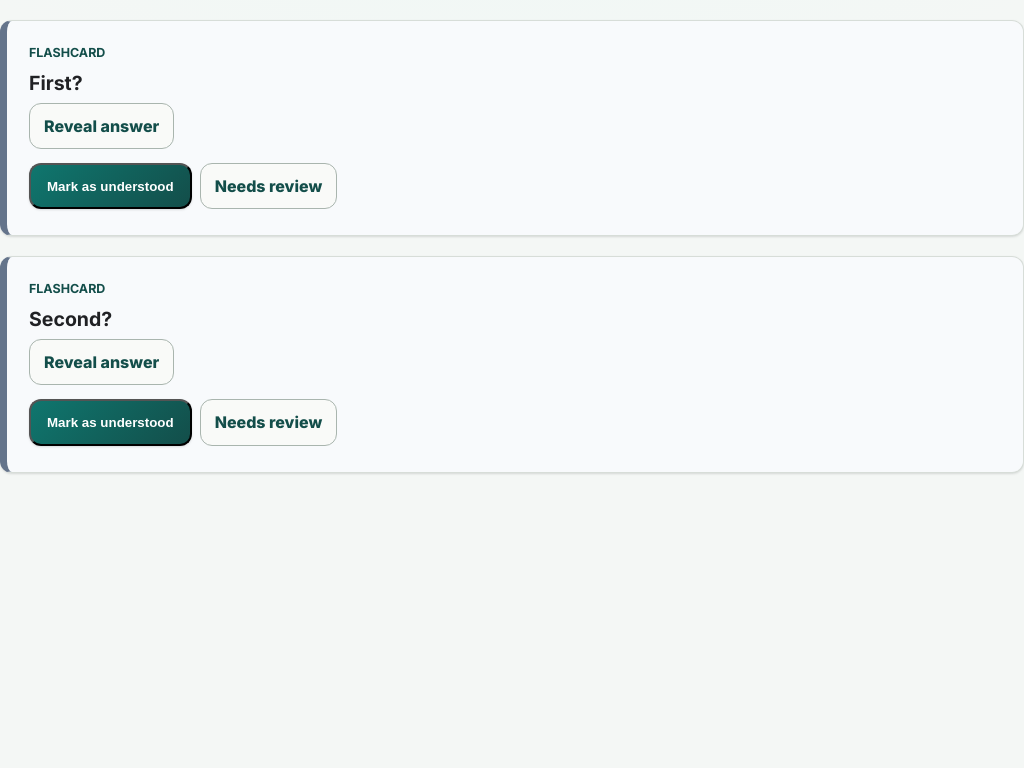
Test: advanced component interactions › reveals flashcard answers independently
Click the button "Reveal answer" below "First?" at (102, 126), box x1=29 y1=103 x2=174 y2=149
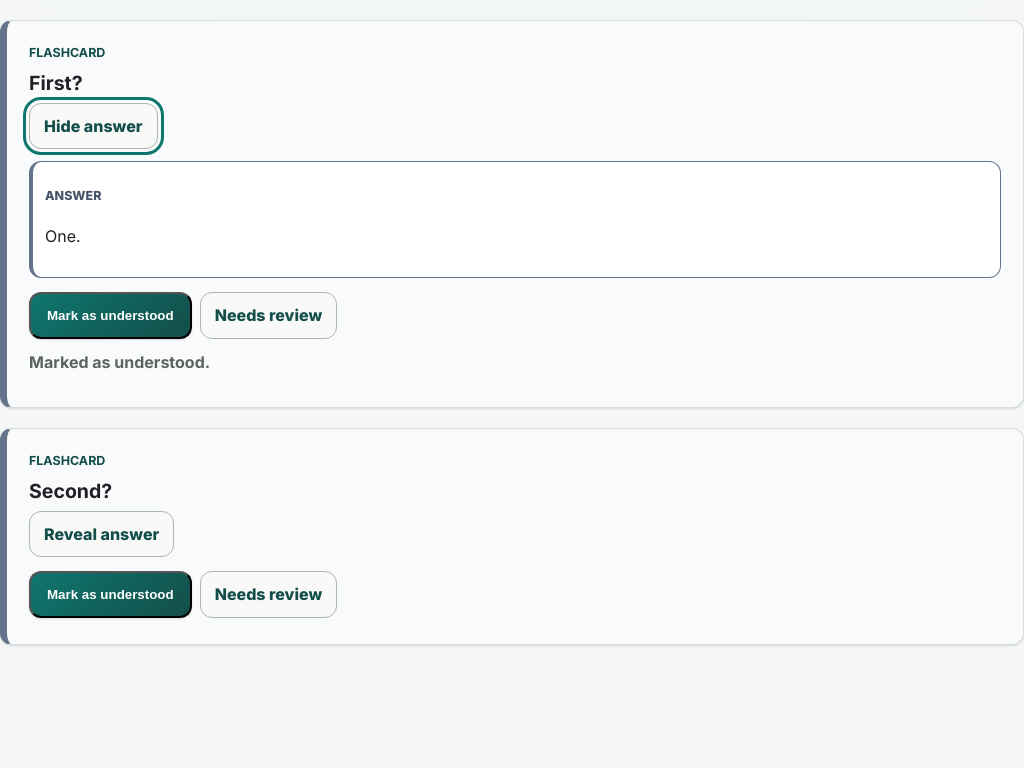
Expected: the button "Hide answer" is expanded, x1=29 y1=103 x2=158 y2=149
Expected: the text "One." is shown, x1=45 y1=226 x2=81 y2=246
